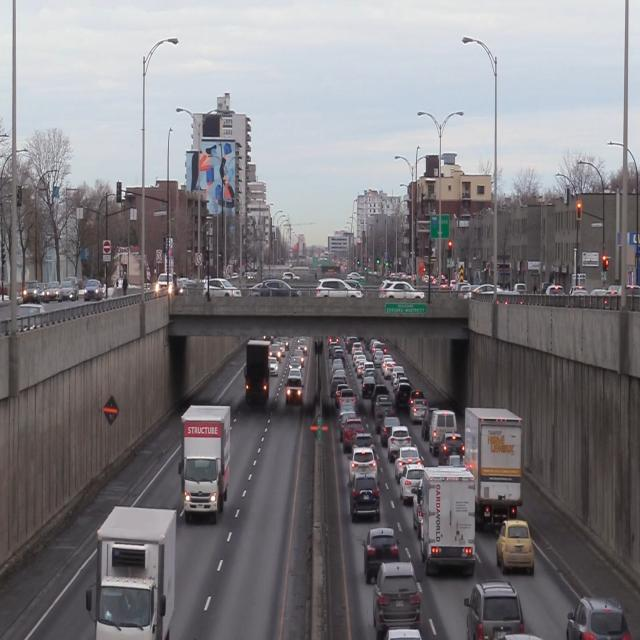Car: (94, 502, 178, 640), (462, 411, 530, 525), (422, 468, 478, 576), (183, 401, 231, 520), (370, 563, 422, 630), (464, 583, 524, 640), (565, 592, 633, 640), (363, 525, 402, 581), (497, 521, 534, 574), (347, 473, 384, 522)
